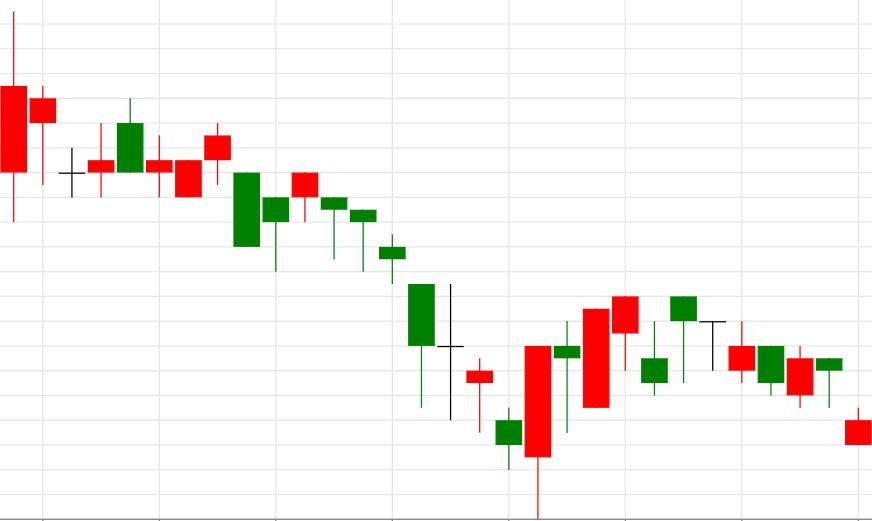bullish_engulfing_rise: (291, 171, 553, 521)
